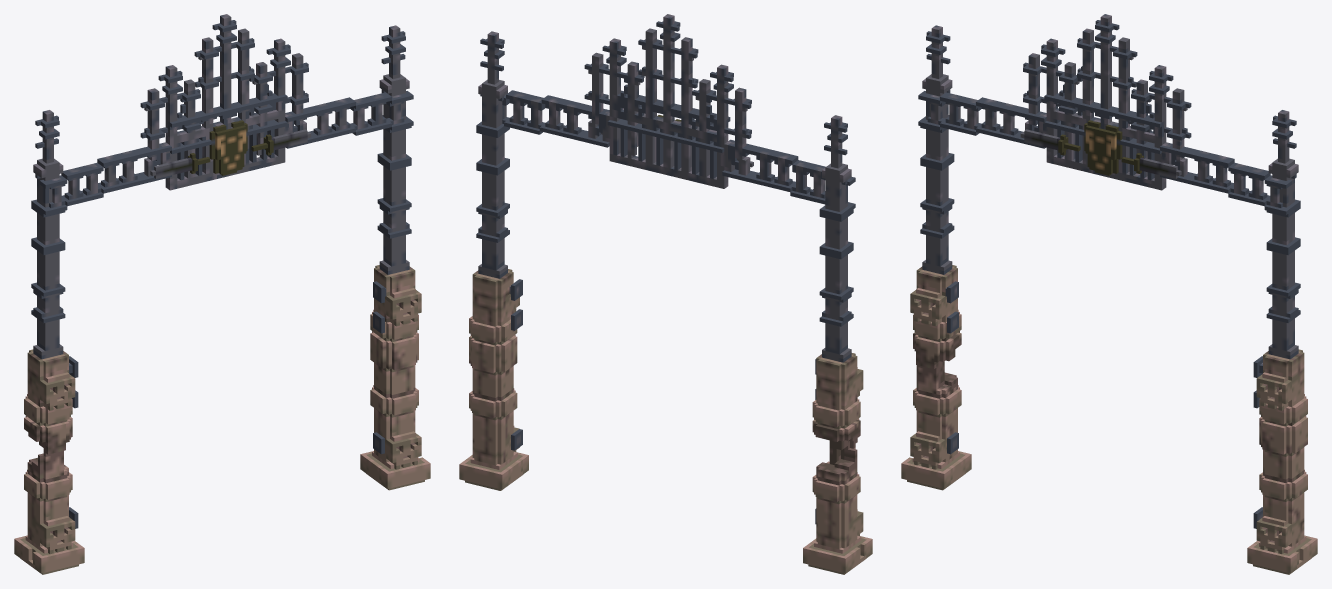
The model's file is Entrance.fbx.
The picture shows the model from 3 angles, left to right: view 1: azimuth 30°, elevation 25°; view 2: azimuth 150°, elevation 25°; view 3: azimuth 330°, elevation 25°; orthographic projection.
Visible parts, largest first — view 1: Entrance; view 2: Entrance; view 3: Entrance.
Boxes of the visible parts, <box> form: Entrance: <box>14,14,430,574</box>; Entrance: <box>459,14,872,574</box>; Entrance: <box>901,14,1317,574</box>.
Size of the model in its own units: 540 by 670 by 65.
